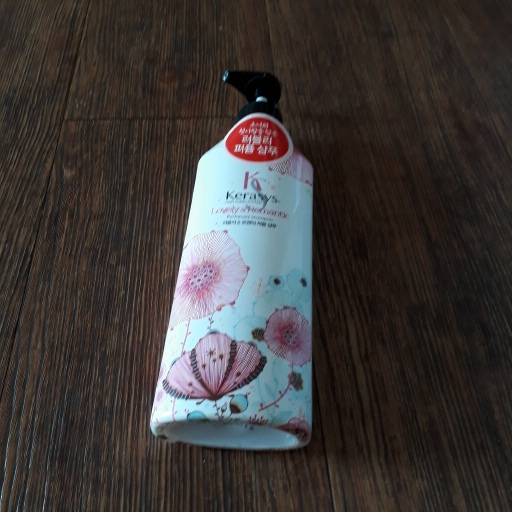Plastic_3: (152, 67, 319, 453)
